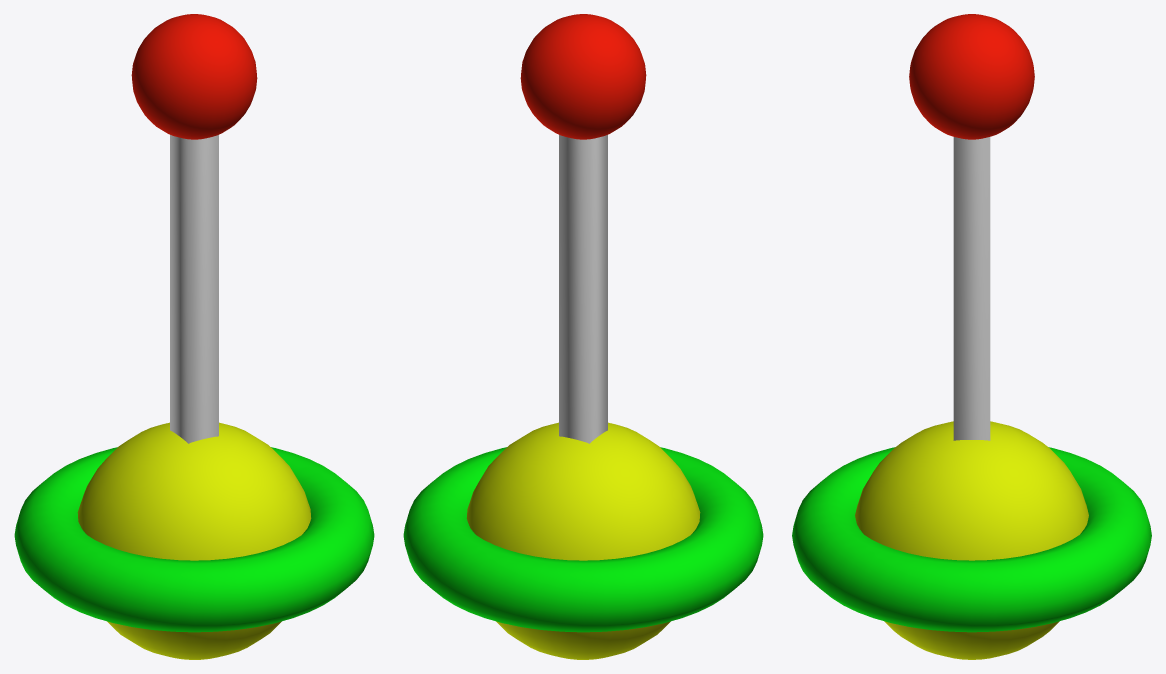
File: Rope.fbx
3 renders of one model, left to right at view 1: azimuth 30°, elevation 25°; view 2: azimuth 150°, elevation 25°; view 3: azimuth 270°, elevation 25°, orthographic.
Visible parts, largest first — view 1: Torus, Sphere, Cube, Sphere.001; view 2: Torus, Sphere, Cube, Sphere.001; view 3: Torus, Sphere, Sphere.001, Cube.
Boxes of the visible parts, box(x1,y1,x2,y2) form: Torus: box(14, 447, 374, 632); Sphere: box(77, 422, 311, 659); Cube: box(170, 135, 218, 443); Sphere.001: box(131, 14, 257, 139); Torus: box(403, 447, 763, 632); Sphere: box(466, 422, 700, 659); Cube: box(559, 135, 607, 443); Sphere.001: box(520, 14, 646, 139); Torus: box(792, 447, 1151, 632); Sphere: box(855, 421, 1088, 659); Sphere.001: box(909, 14, 1034, 139); Cube: box(953, 137, 990, 440).
Size of the model in its own units: 2.5 by 4.82 by 2.5.
